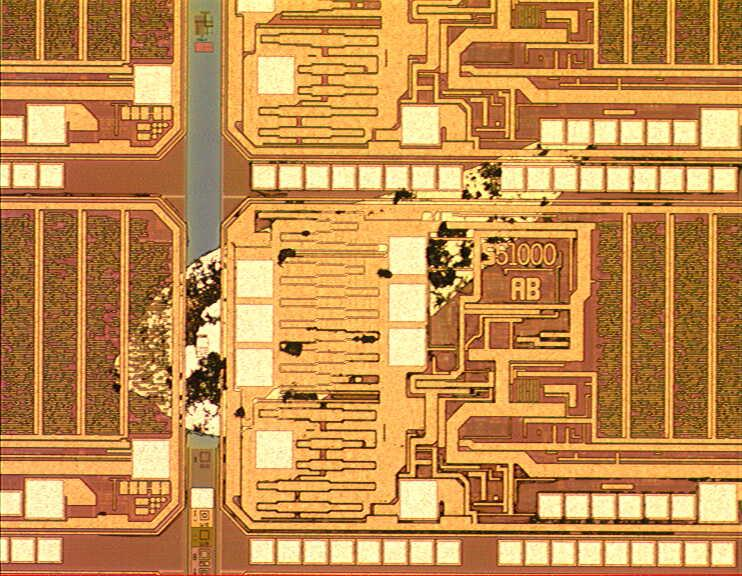BLOCK ETCH: (110, 129, 593, 441)
